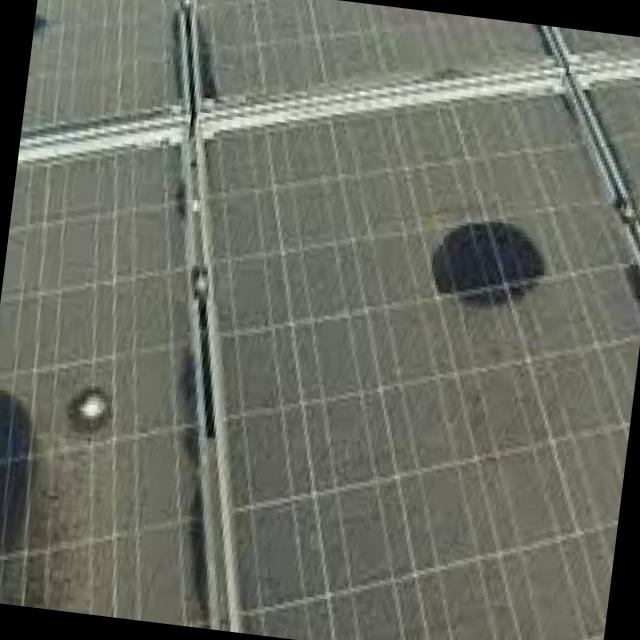faulty: (211, 94, 640, 640), (0, 146, 190, 615), (197, 0, 548, 100), (27, 0, 178, 129), (595, 81, 640, 215)
